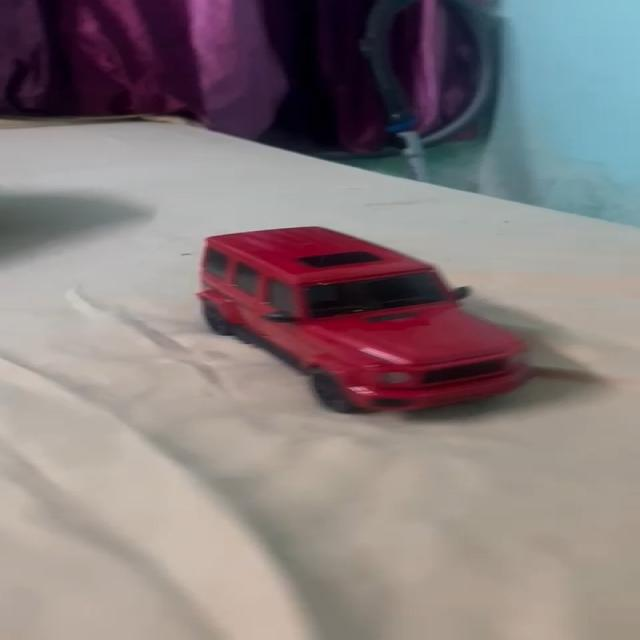light_vehicle: (168, 221, 536, 408)
